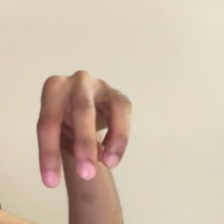M: (14, 49, 153, 201)
